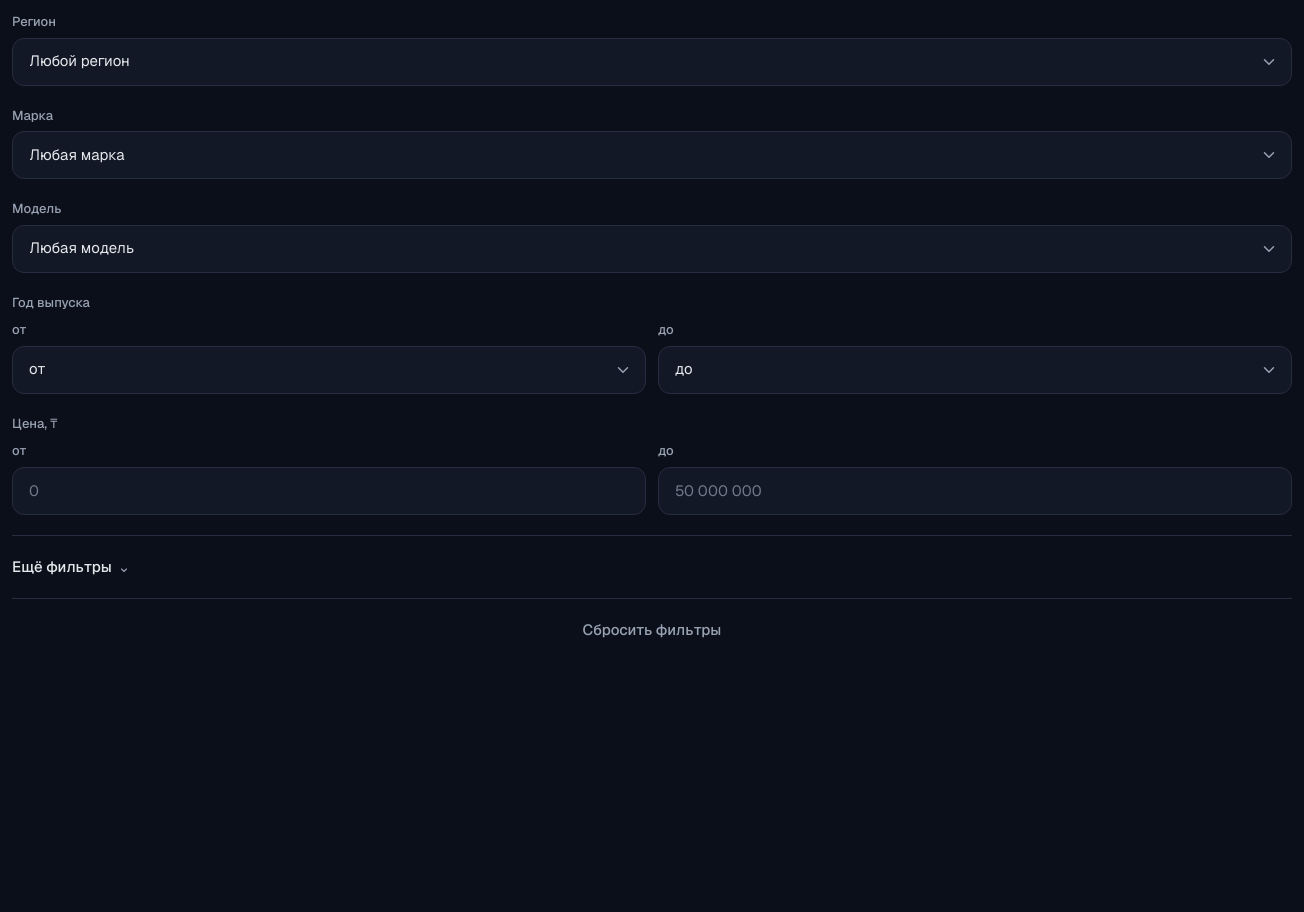
Test case: FilterForm — LocationSelector integration (Stage 7А) › Almaty (republican_city): no repeated city picker, auto cityId reaches the URL
Select "город Алматы" in the dropdown labelled "Регион" at {"x": 652, "y": 62}, box [12,38,1292,86]
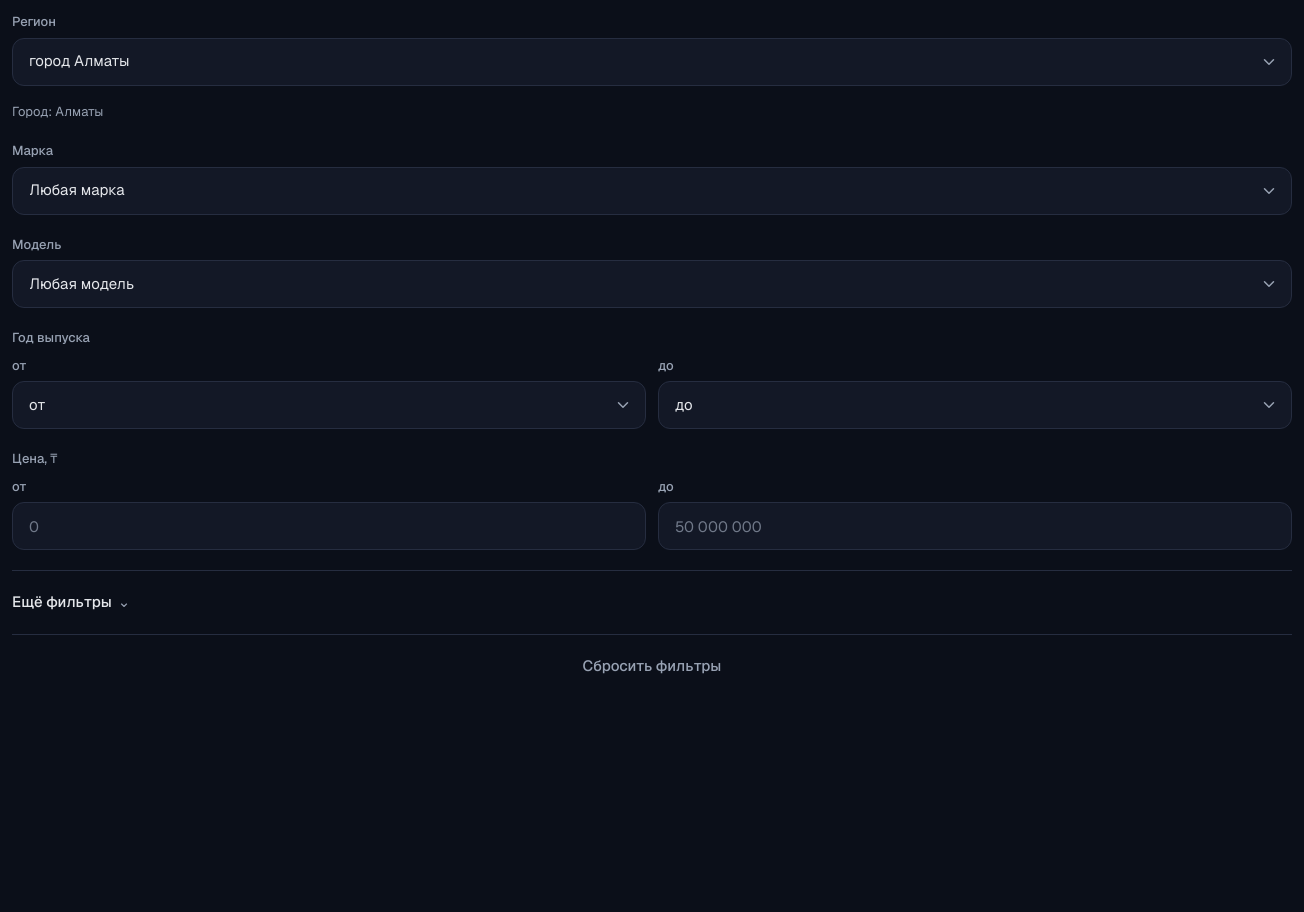
Expected: the text "Город: Алматы" is shown, [12,102,103,120]
